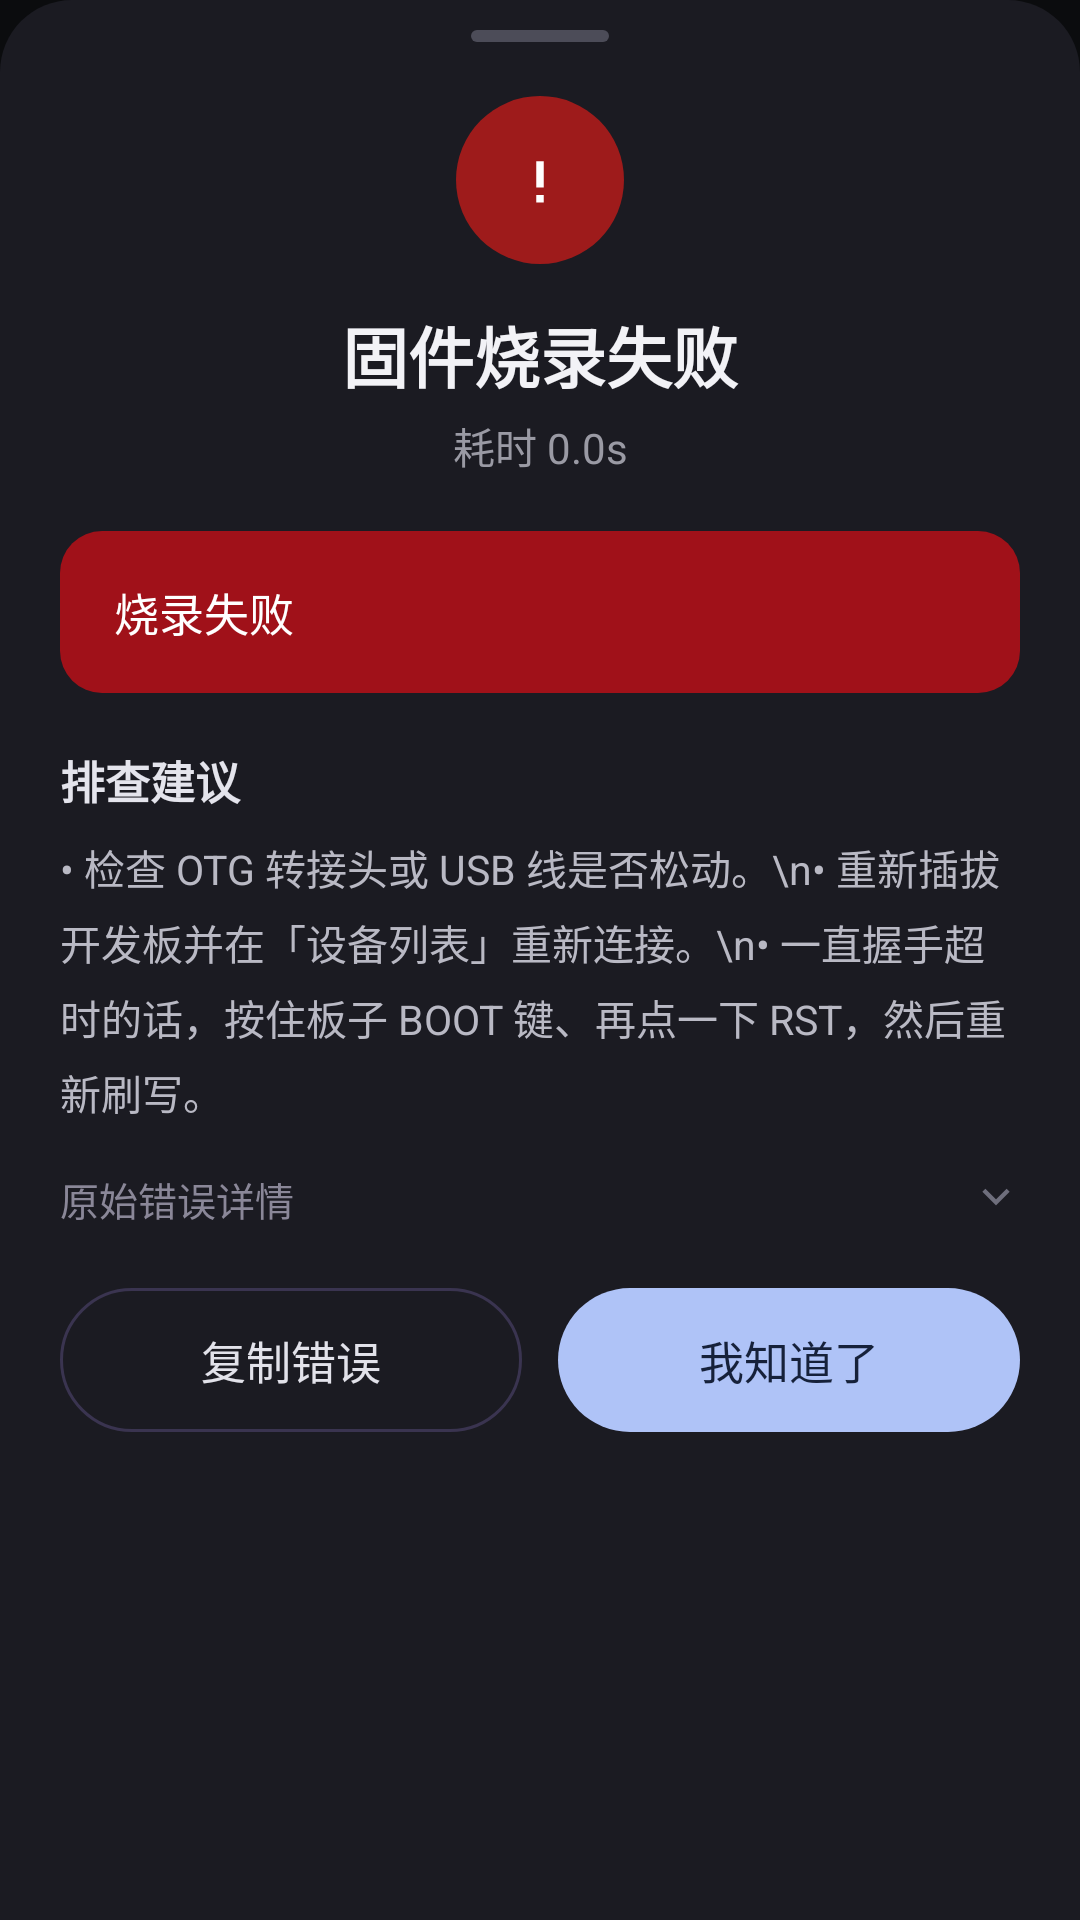

Locate icon controls on the screen. Image size 1080×1920, boxes as BBox(x1, y1, x2, y2).
展开: BBox(982, 1189, 1010, 1205)
